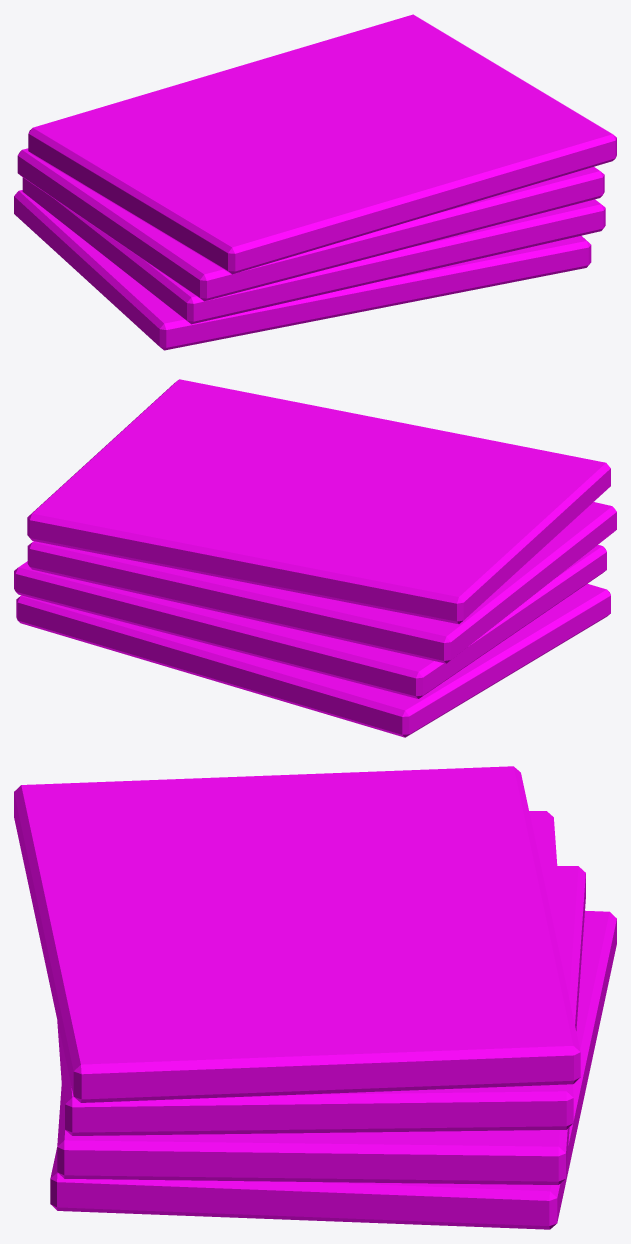
The model's file is objet_plaque.glb.
3 renders of one model, top to bottom at view 1: azimuth 30°, elevation 25°; view 2: azimuth 150°, elevation 25°; view 3: azimuth 270°, elevation 25°, orthographic. The views are drawn at different scales.
Visible parts, largest first — view 1: plaques_teinte.002; view 2: plaques_teinte.002; view 3: plaques_teinte.002.
Boxes of the visible parts, x1,y1,x2,y2 form: plaques_teinte.002: [14, 14, 616, 350]; plaques_teinte.002: [14, 379, 616, 737]; plaques_teinte.002: [14, 766, 616, 1229].
Bounding box in the file's own units: 0.3022 × 0.0775 × 0.2488.
